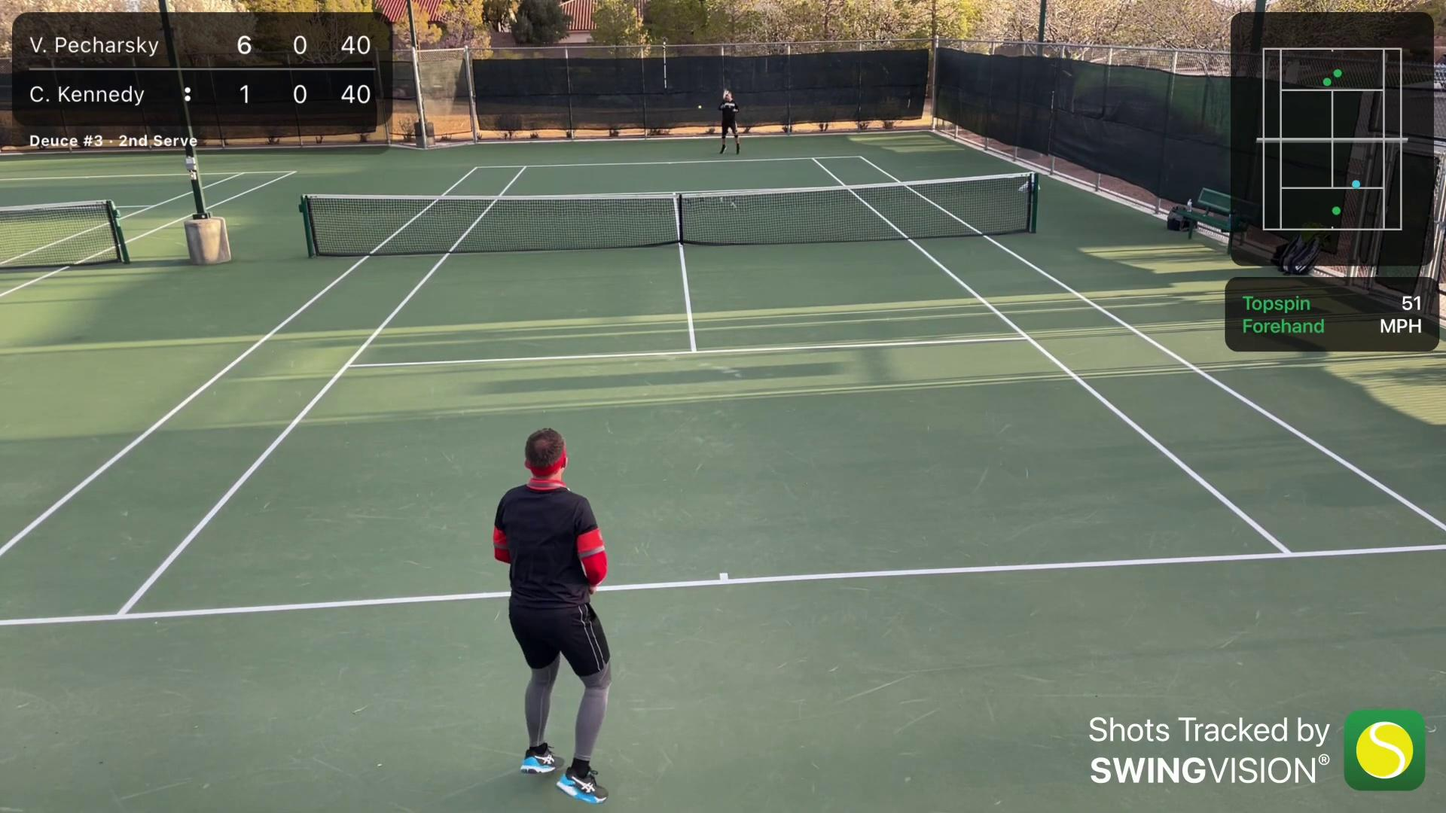ball: (697, 105, 703, 108)
